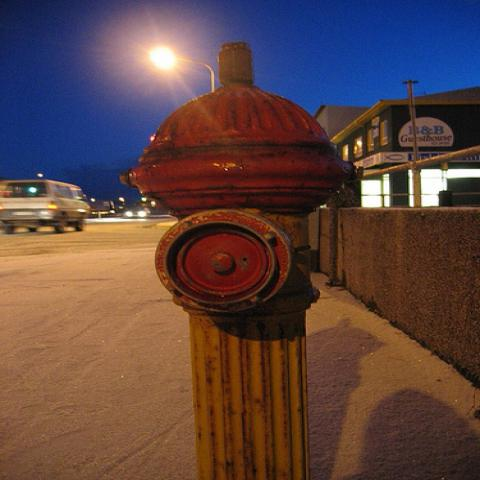car: (121, 205, 152, 219)
truck: (2, 181, 96, 234)
